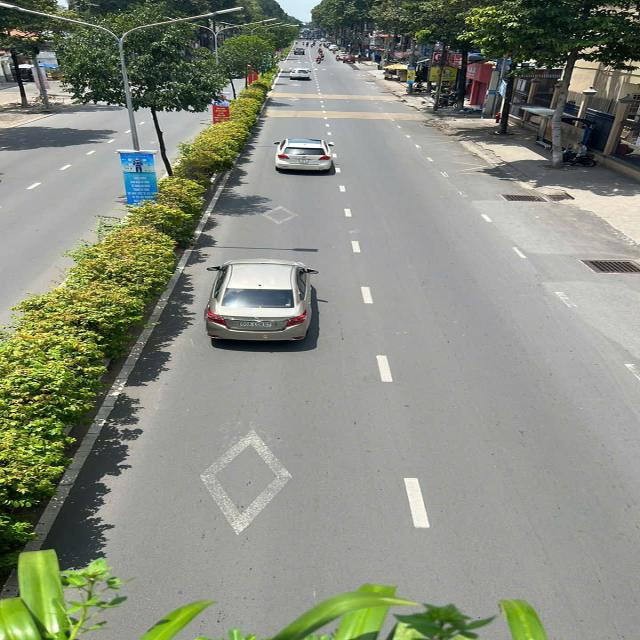car: (200, 255, 320, 347), (272, 136, 336, 175), (288, 66, 313, 81), (340, 54, 360, 64), (292, 45, 307, 56)
motobyte: (315, 55, 325, 66), (317, 46, 327, 56)
